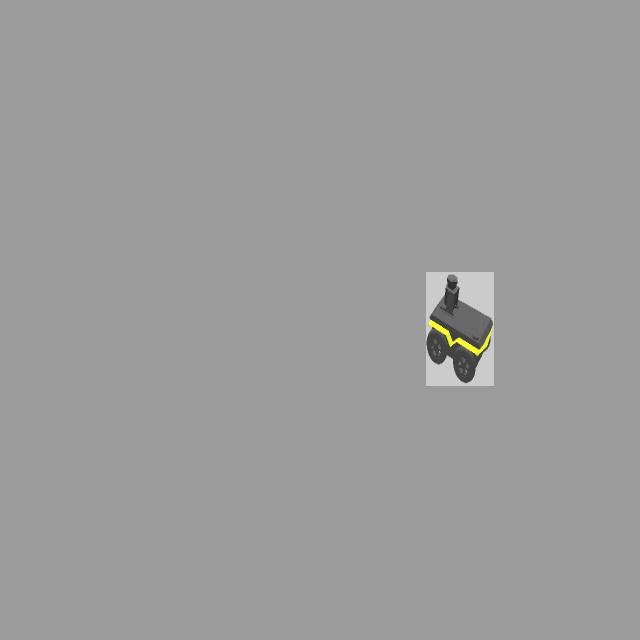jackal: (426, 272, 494, 386)
